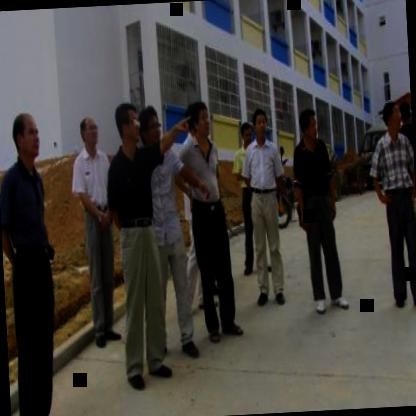head: (9, 106, 44, 168), (112, 98, 141, 150), (138, 102, 165, 150), (185, 98, 213, 144), (77, 110, 101, 152), (297, 104, 320, 142), (382, 98, 404, 134), (250, 104, 268, 144), (240, 120, 254, 151), (398, 96, 412, 124)
